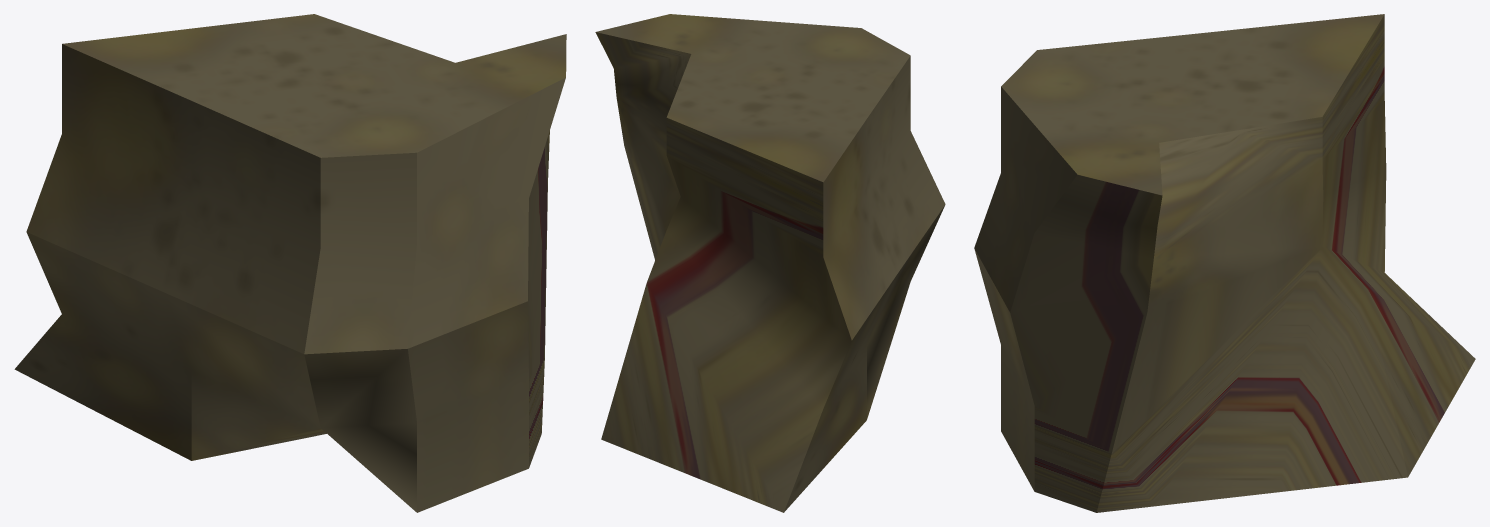
Rendered from ishi_02_10_7.fbx.
3 views of the same model, side by side, from view 1: azimuth 30°, elevation 25°; view 2: azimuth 150°, elevation 25°; view 3: azimuth 270°, elevation 25° (orthographic). The views are drawn at different scales.
Visible parts, largest first — view 1: polySurface33; view 2: polySurface33; view 3: polySurface33.
Part boxes in pixels (x1,y1,x2,y2): polySurface33: (14, 14, 566, 512); polySurface33: (595, 14, 945, 512); polySurface33: (974, 14, 1475, 512).
Bounding box in the file's own units: 6.32 × 5.14 × 6.77.
Materials: 1 (1 with a texture image).
